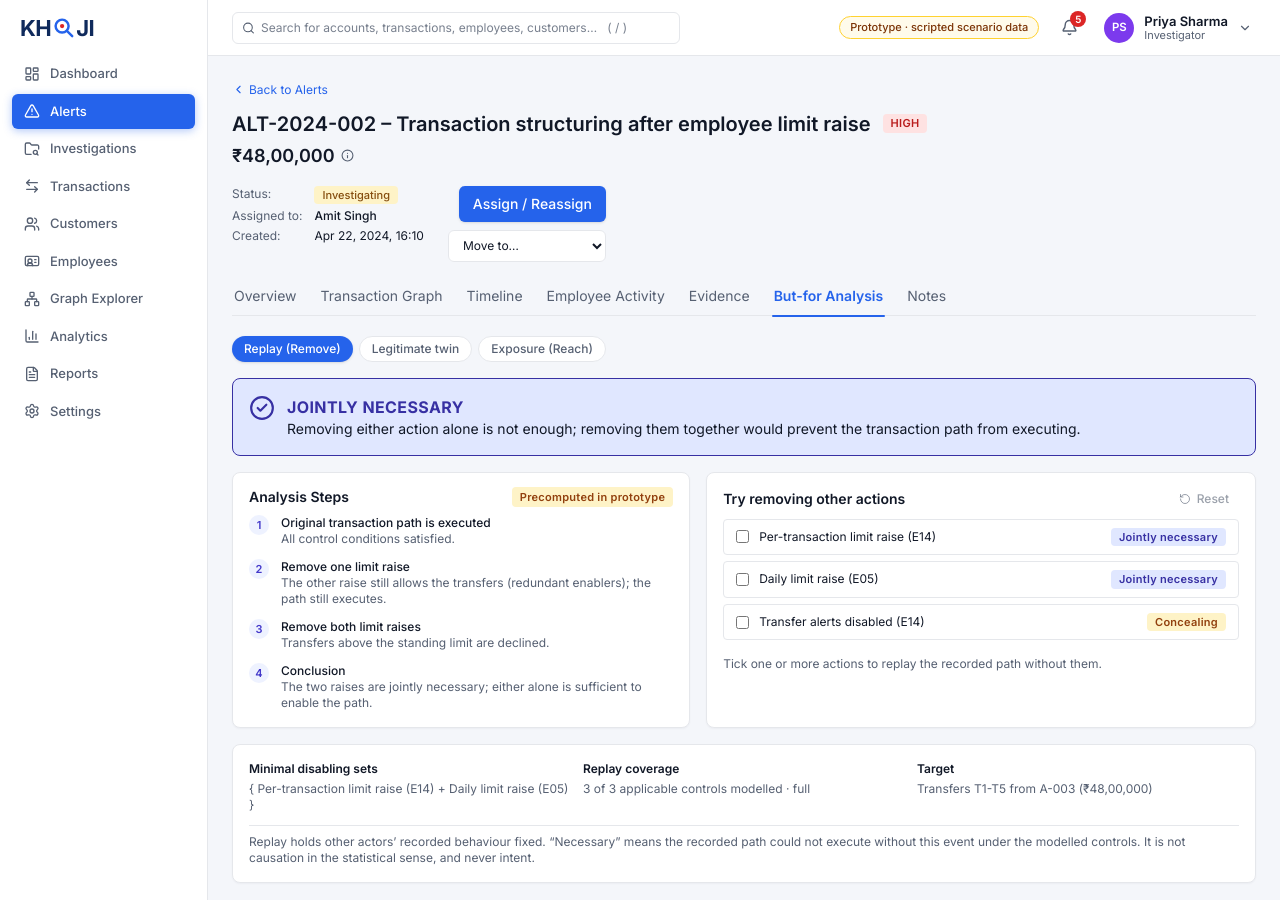
Test case: Twin panel UI › works for the splitting attack and the profile-mismatch attack
What coordinates should you click on to do the following:
click the tab "Legitimate twin"
I would click on:
 (416, 348)
Its box is [359,336,472,362].
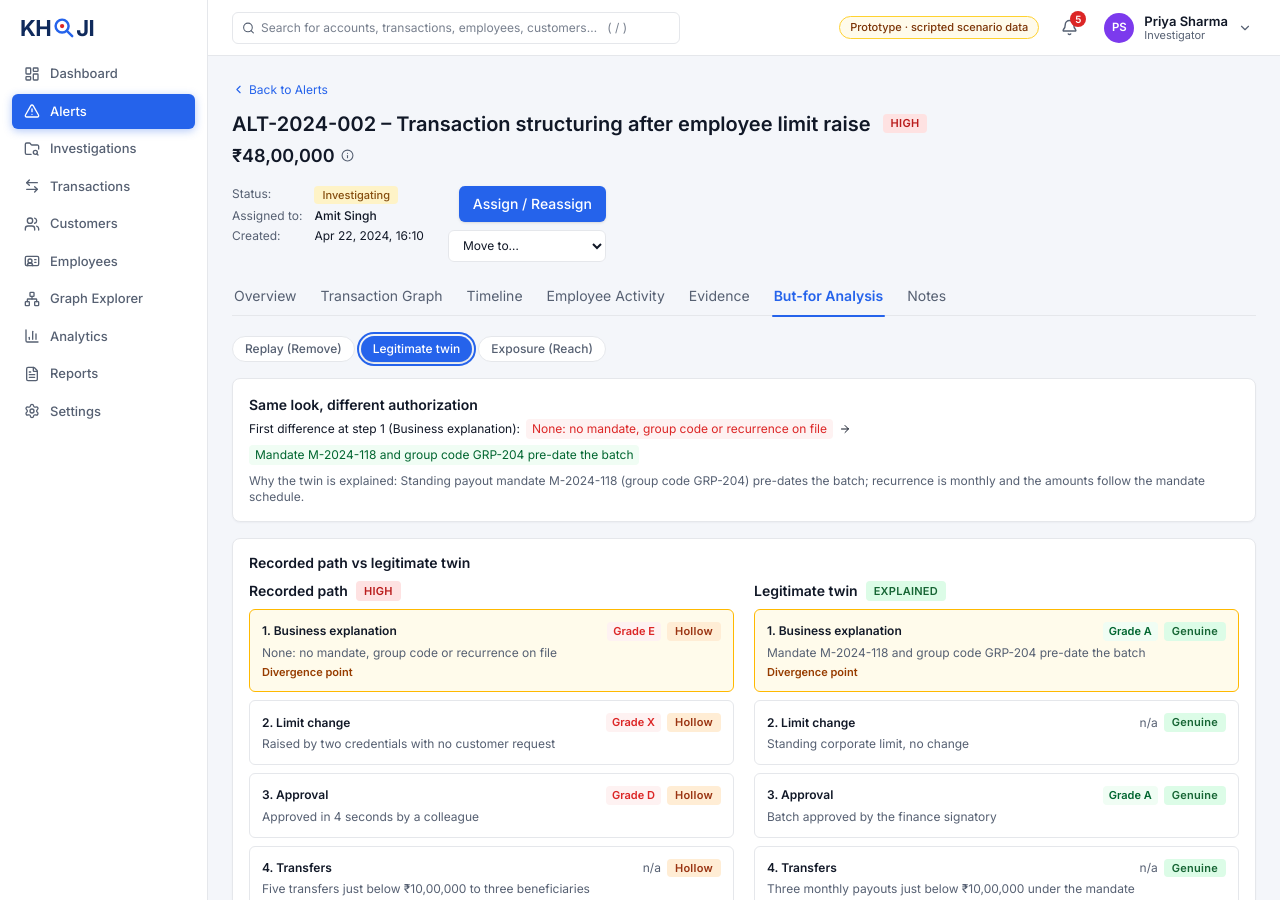
Now the element with test id "divergence" shows "Business explanation", box [393,420,512,436]
